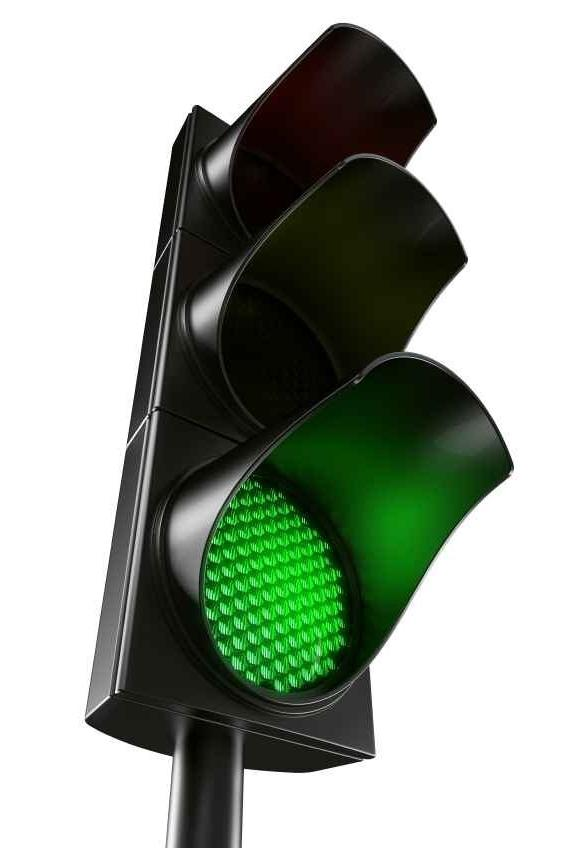traffic light: (81, 24, 519, 848)
